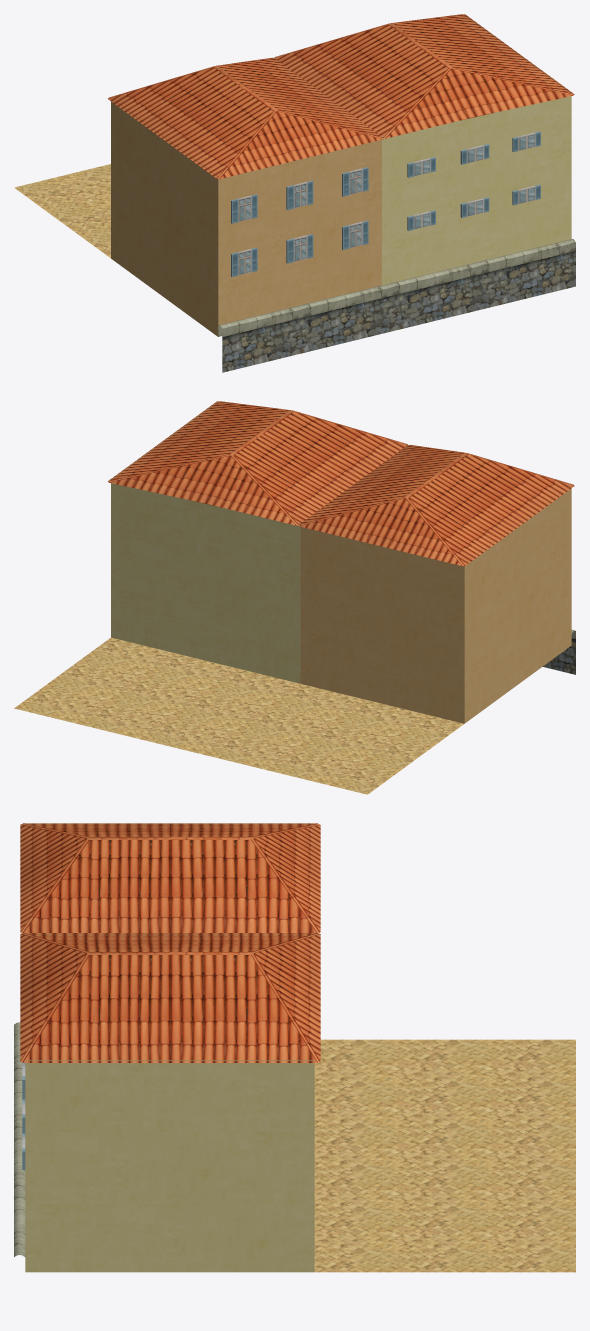
Rendered from Dock_Side.FBX.
3 views of the same model, one above another, from view 1: azimuth 30°, elevation 25°; view 2: azimuth 150°, elevation 25°; view 3: azimuth 270°, elevation 25° (orthographic). The views are drawn at different scales.
Visible parts, largest first — view 1: Dock_Side; view 2: Dock_Side; view 3: Dock_Side.
Part boxes in pixels (bbox=[...]): Dock_Side: bbox=[14, 14, 575, 372]; Dock_Side: bbox=[14, 401, 575, 794]; Dock_Side: bbox=[14, 823, 575, 1272].
Bounding box in the file's own units: 29.23 × 29.47 × 17.31.
